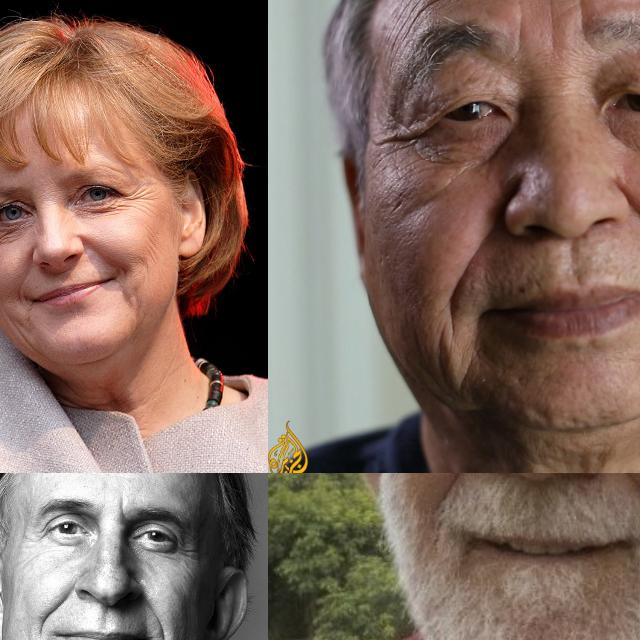chin: (426, 335, 472, 385)
crows_feet: (384, 121, 426, 149), (120, 186, 150, 208), (174, 537, 196, 567), (34, 522, 48, 544)
forehead: (422, 0, 476, 9)
frown_line: (572, 0, 598, 43), (508, 16, 534, 56), (545, 9, 563, 49), (116, 494, 130, 516)
gummy_smile: (440, 231, 496, 315), (605, 473, 640, 510), (439, 473, 480, 503), (40, 588, 70, 628), (142, 598, 170, 634)
masseter: (10, 322, 40, 356), (140, 226, 160, 274)
sad_smile: (10, 284, 32, 316), (113, 262, 131, 288)
